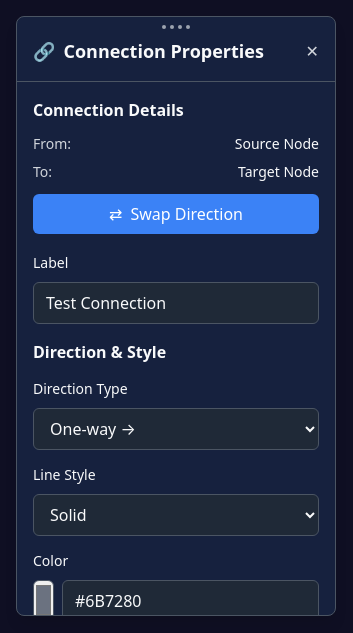
Test: ConnectionPropertyPanel › Form Interactions › should track modification state when form is changed
Step 1. Type " Modified" into the field showing "Test Connection" → (176, 303), box x1=33 y1=282 x2=319 y2=324
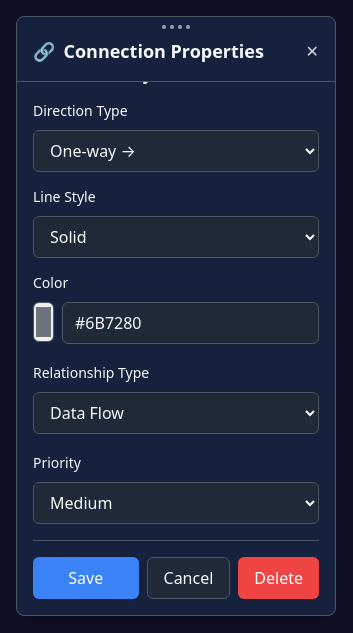
Expected: the button "Save" is enabled, x1=33 y1=557 x2=138 y2=599
